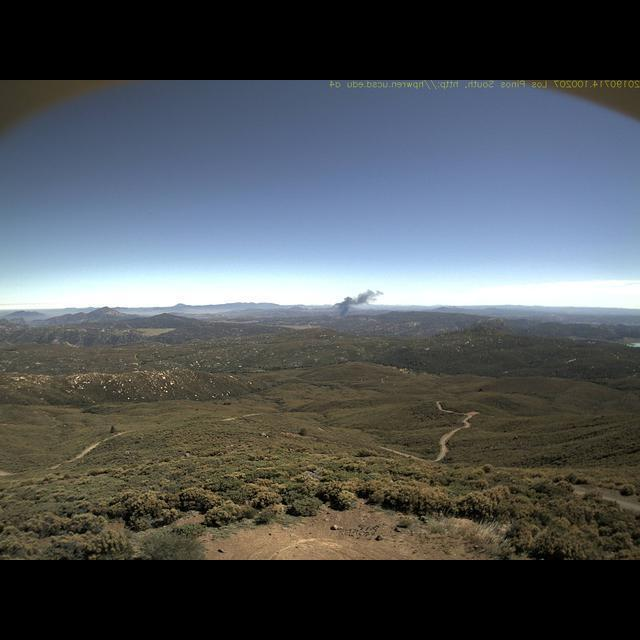Smoke: (330, 281, 388, 318)
